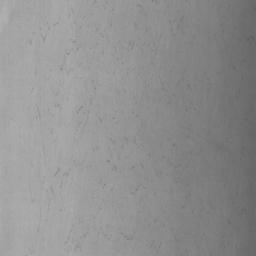Silk spot: (43, 160, 91, 195), (69, 8, 104, 38), (76, 95, 103, 131), (29, 22, 59, 45), (112, 40, 135, 64), (65, 229, 89, 251), (33, 104, 62, 120), (64, 36, 81, 59), (169, 16, 184, 36)
